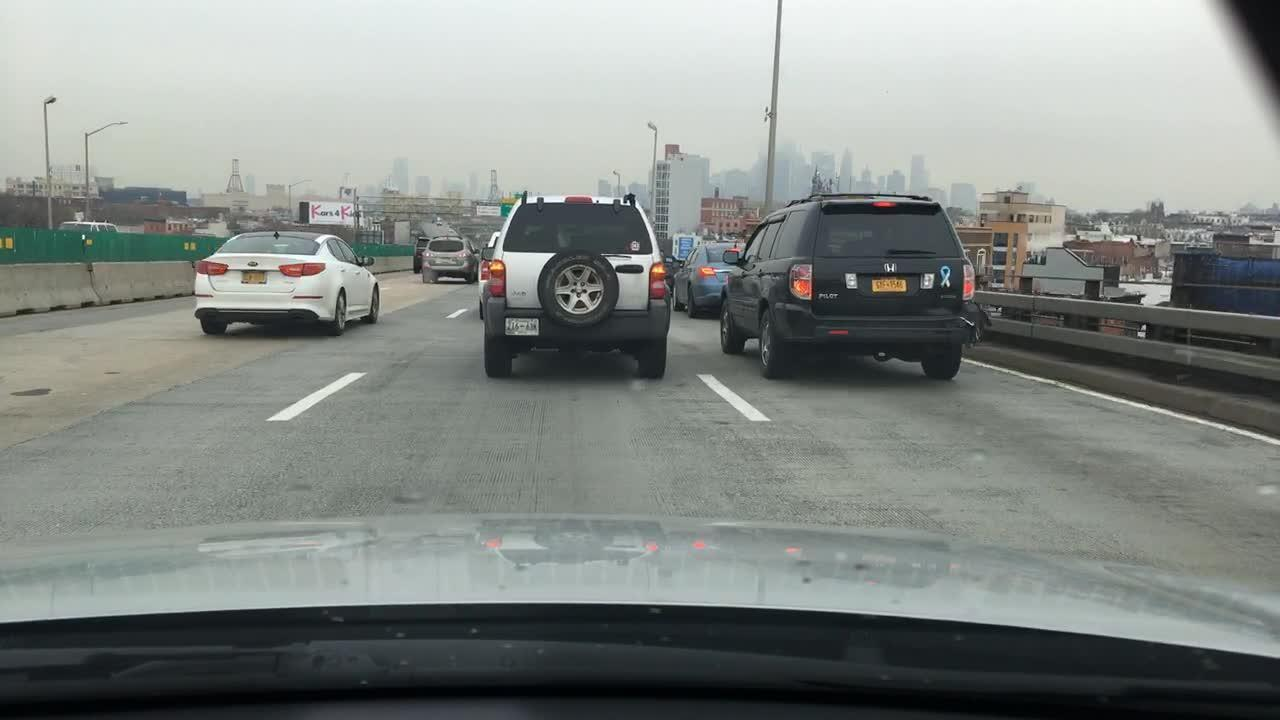Honda: (880, 258, 899, 280)
kia: (242, 258, 266, 271)
